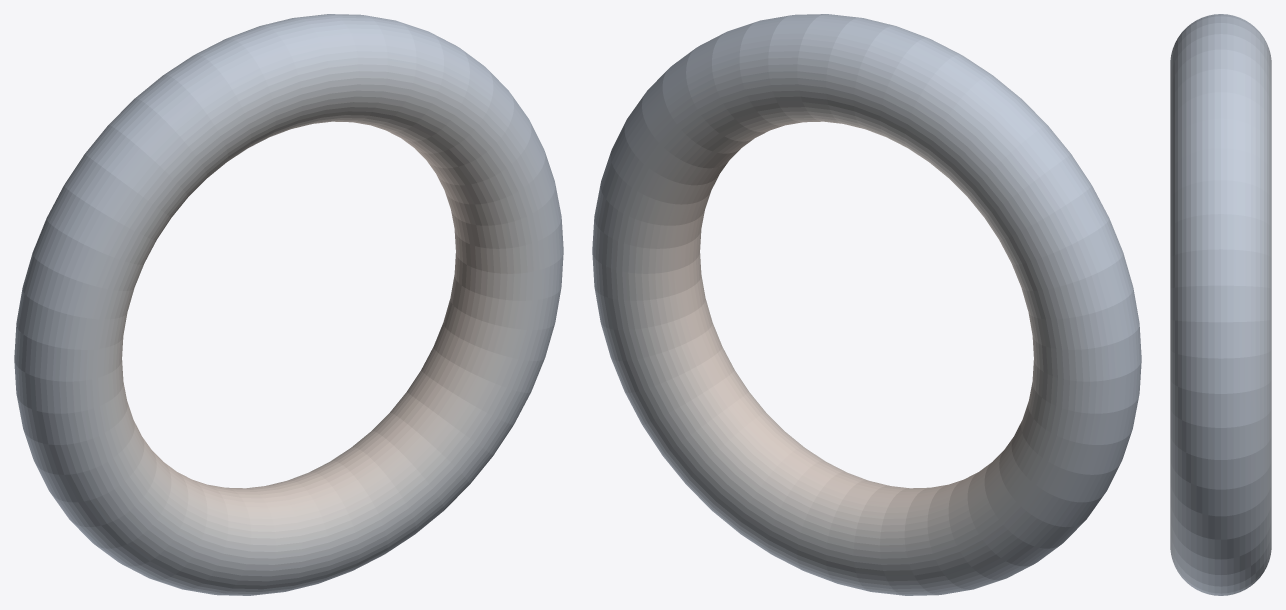
3 renders of one model, left to right at view 1: azimuth 30°, elevation 25°; view 2: azimuth 150°, elevation 25°; view 3: azimuth 270°, elevation 25°, orthographic. The views are drawn at different scales.
Parts seen in each view (by area): view 1: world; view 2: world; view 3: world.
Boxes of the visible parts, <box> form: world: <box>14,14,563,595</box>; world: <box>592,14,1141,595</box>; world: <box>1170,14,1271,595</box>.
Bounding box in the file's own units: 28.27 × 28.21 × 4.92.
